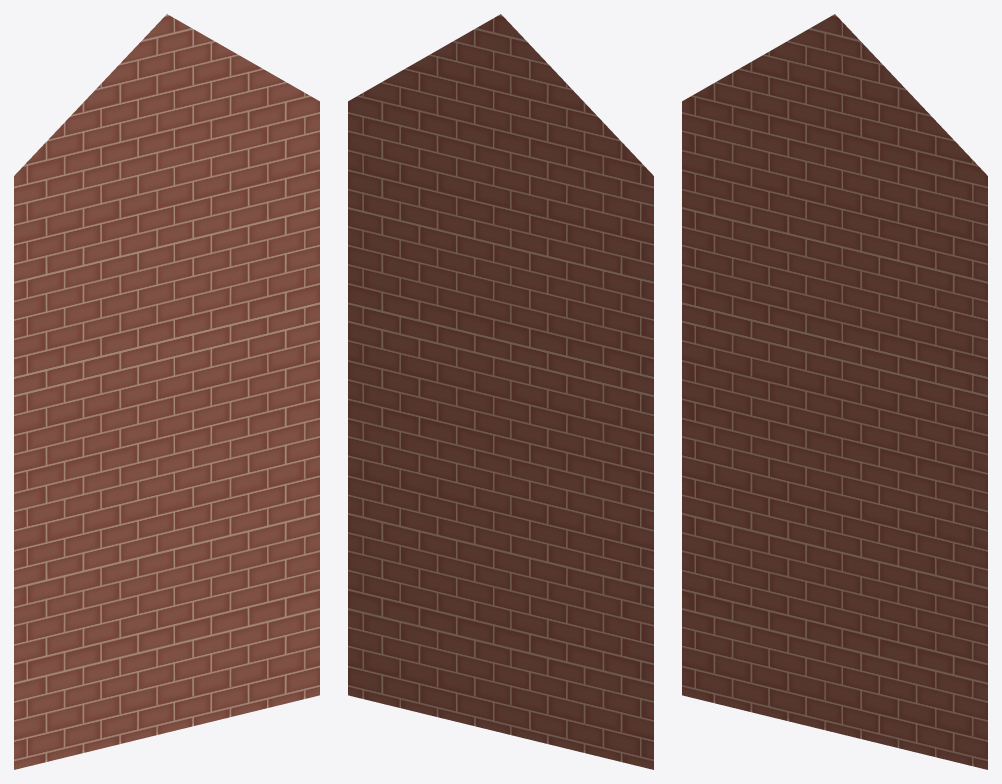
The model's file is schoolmainWall.fbx.
3 renders of one model, left to right at view 1: azimuth 30°, elevation 25°; view 2: azimuth 150°, elevation 25°; view 3: azimuth 330°, elevation 25°, orthographic.
Parts seen in each view (by area): view 1: mainWall; view 2: mainWall; view 3: mainWall.
Part boxes in pixels (x1,y1,x2,y2): mainWall: [14, 14, 319, 769]; mainWall: [348, 14, 653, 769]; mainWall: [682, 14, 987, 769].
Bounding box in the file's own units: 455 × 1022 × 0.
1 material, 1 textured.
